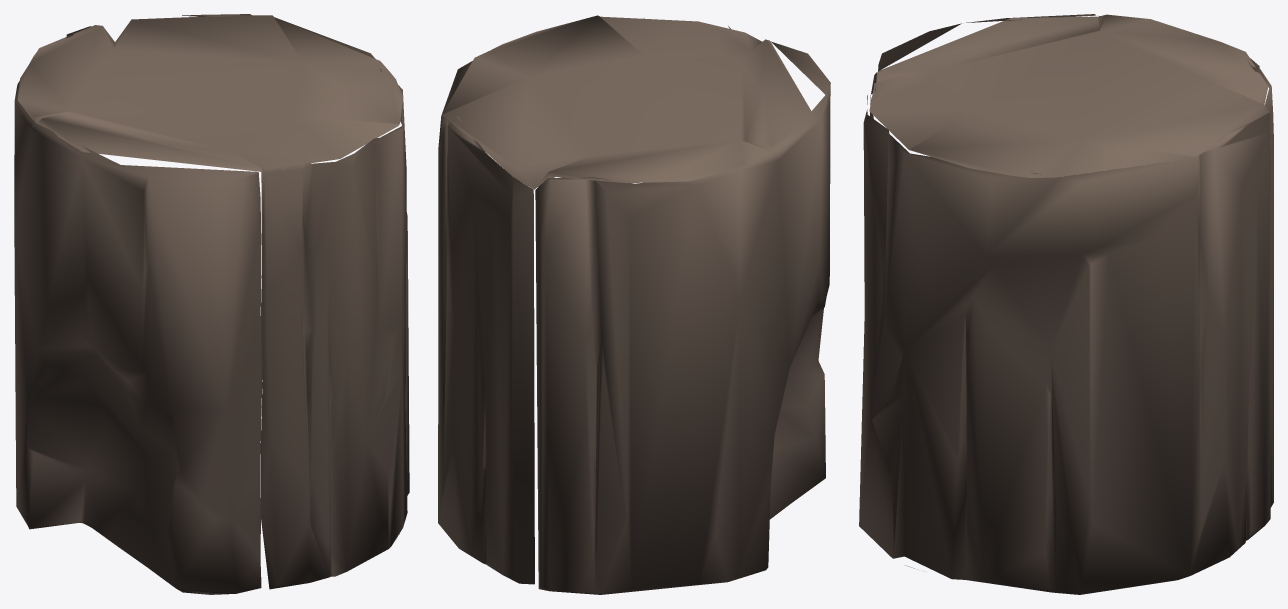
The model's file is lb_stump.glb.
3 views of the same model, side by side, from view 1: azimuth 30°, elevation 25°; view 2: azimuth 150°, elevation 25°; view 3: azimuth 270°, elevation 25° (orthographic).
Parts seen in each view (by area): view 1: geometry_0; view 2: geometry_0; view 3: geometry_0.
Boxes of the visible parts, x1=… form: geometry_0: x1=14, y1=14, x2=409, y2=594; geometry_0: x1=438, y1=15, x2=830, y2=594; geometry_0: x1=859, y1=14, x2=1273, y2=594.
Size of the model in its own units: 1.84 by 2.2 by 1.96.
